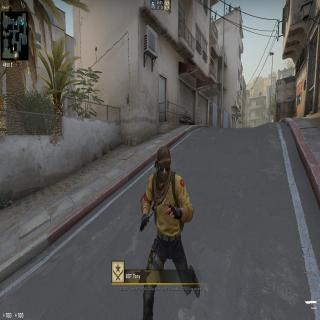T-Head: (154, 145, 172, 185)
